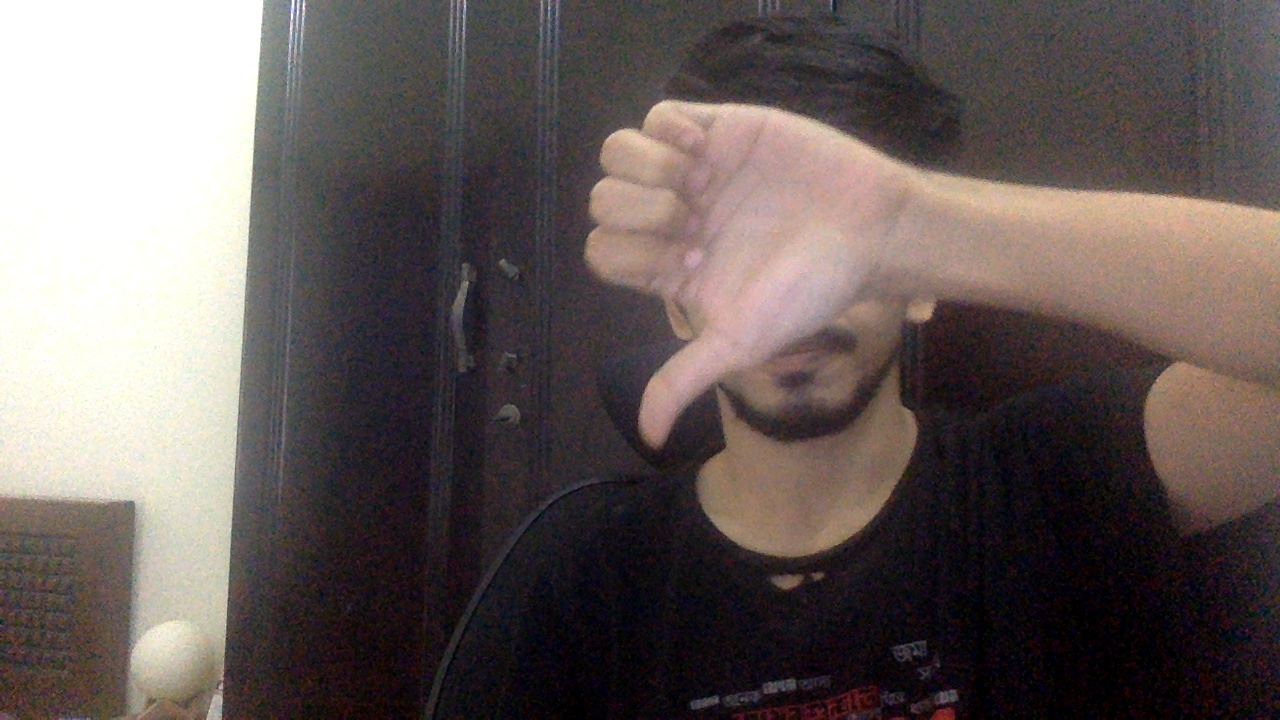bad: (582, 98, 875, 453)
